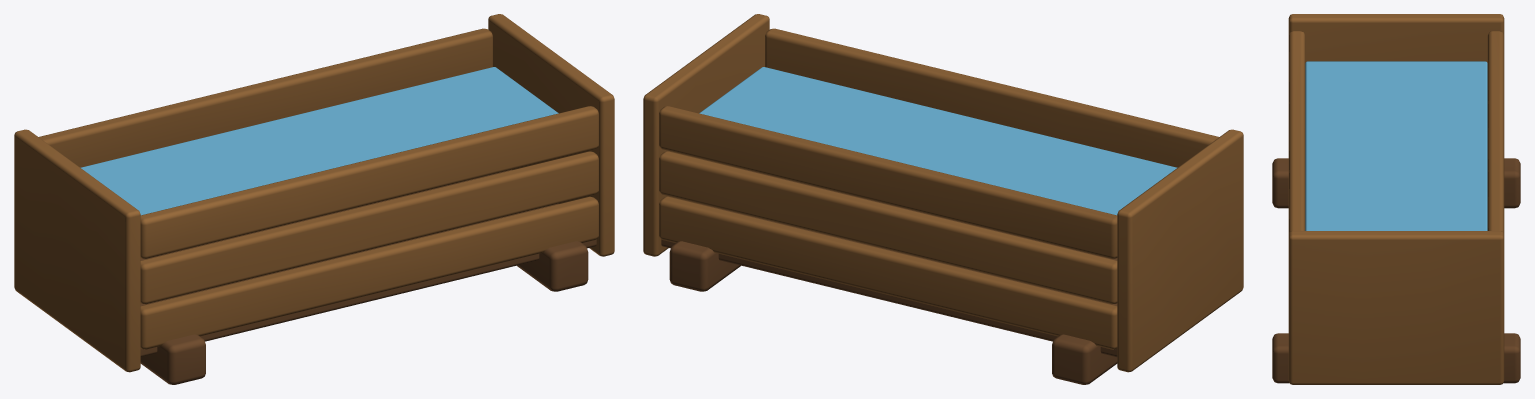
The model's file is trough.glb.
3 renders of one model, left to right at view 1: azimuth 30°, elevation 25°; view 2: azimuth 150°, elevation 25°; view 3: azimuth 270°, elevation 25°, orthographic. The views are drawn at different scales.
Parts seen in each view (by area): view 1: trough_main, trough_water; view 2: trough_main, trough_water; view 3: trough_main, trough_water.
Part boxes in pixels (box(x1,y1,x2,y2)): trough_main: box(14, 14, 614, 384); trough_water: box(80, 67, 558, 215); trough_main: box(643, 14, 1243, 384); trough_water: box(699, 67, 1177, 215); trough_main: box(1272, 14, 1520, 384); trough_water: box(1305, 61, 1487, 230).
Bounding box in the file's own units: 1.28 × 0.44 × 0.6.
